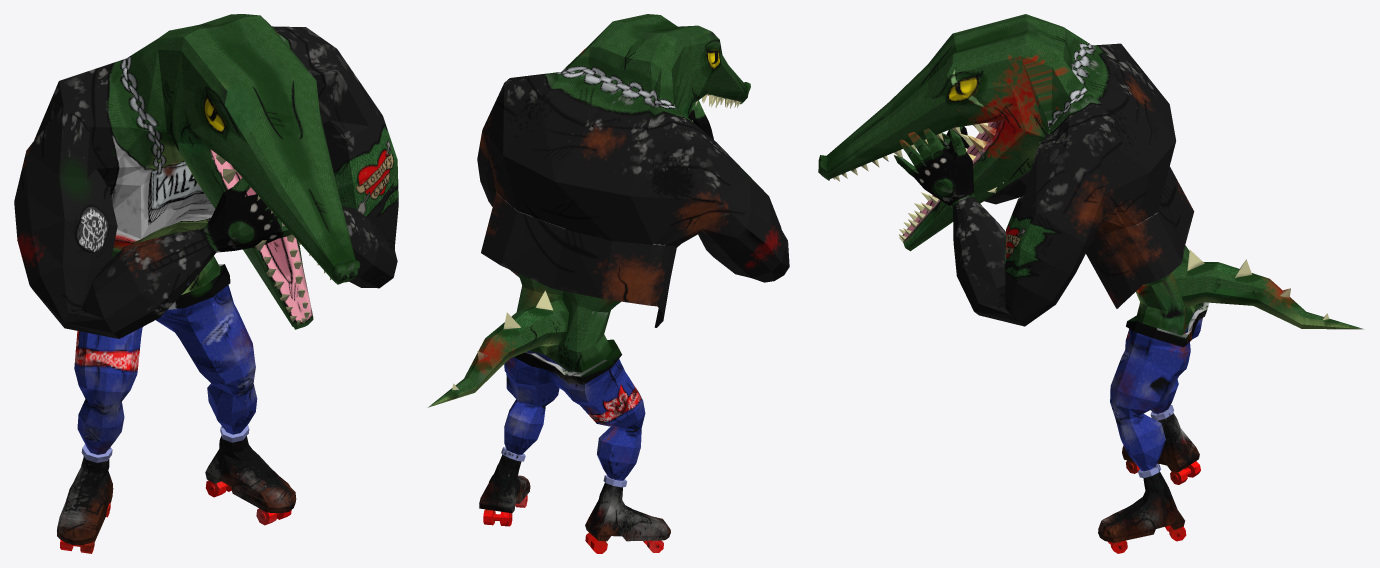
The model's file is cocodrilaBonesSelect_000056.obj.
The picture shows the model from 3 angles, left to right: view 1: azimuth 30°, elevation 25°; view 2: azimuth 150°, elevation 25°; view 3: azimuth 270°, elevation 25°; orthographic projection. The views are drawn at different scales.
Visible parts, largest first — view 1: Crocodile.002_Cylinder.002; view 2: Crocodile.002_Cylinder.002; view 3: Crocodile.002_Cylinder.002.
Part boxes in pixels (<box>): Crocodile.002_Cylinder.002: <box>14,14,398,553</box>; Crocodile.002_Cylinder.002: <box>427,14,789,553</box>; Crocodile.002_Cylinder.002: <box>818,14,1364,553</box>.
Bounding box in the file's own units: 4 × 6.06 × 6.28.
